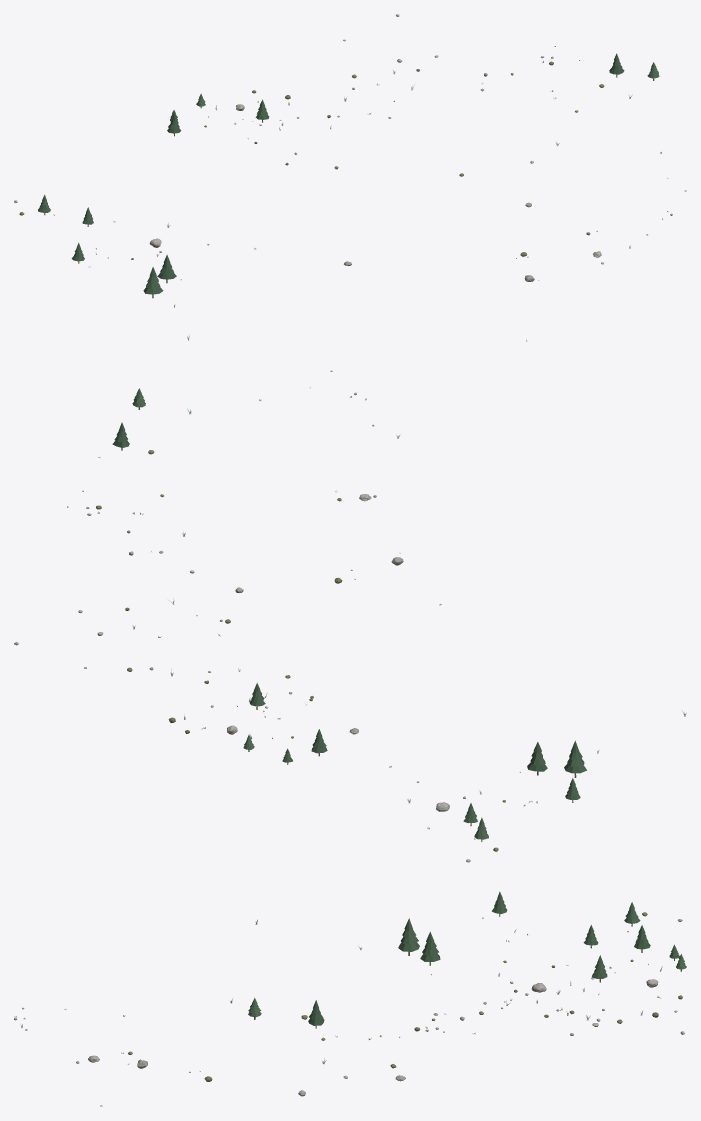
Rendered from coast_land_scatter_c10_17.glb.
3 renders of one model, top to bottom at view 1: azimuth 30°, elevation 25°; view 2: azimuth 150°, elevation 25°; view 3: azimuth 270°, elevation 25°, orthographic. The views are drawn at different scales.
Visible parts, largest first — view 1: coast_land_scatter_c10_17; view 2: coast_land_scatter_c10_17; view 3: coast_land_scatter_c10_17.
Boxes of the visible parts, bbox=[...] form: coast_land_scatter_c10_17: bbox=[14, 14, 686, 341]; coast_land_scatter_c10_17: bbox=[14, 370, 686, 862]; coast_land_scatter_c10_17: bbox=[14, 891, 686, 1106].
Size of the model in its own units: 248 by 92.87 by 253.
